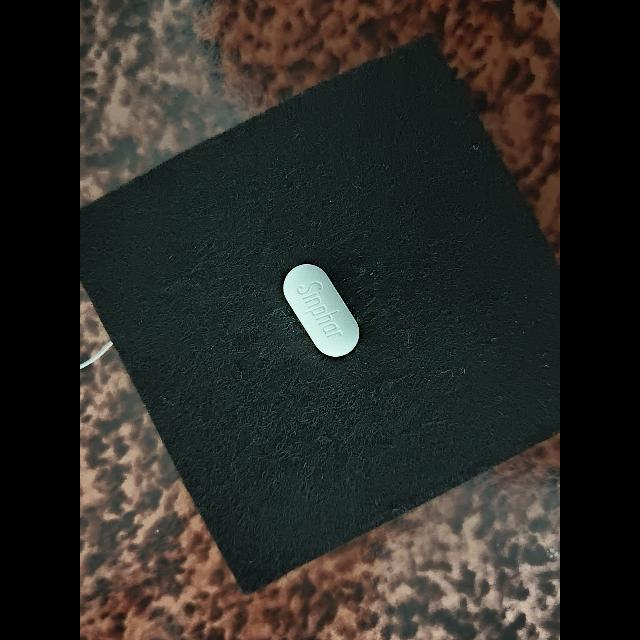Intact Pill: (283, 264, 360, 357)
